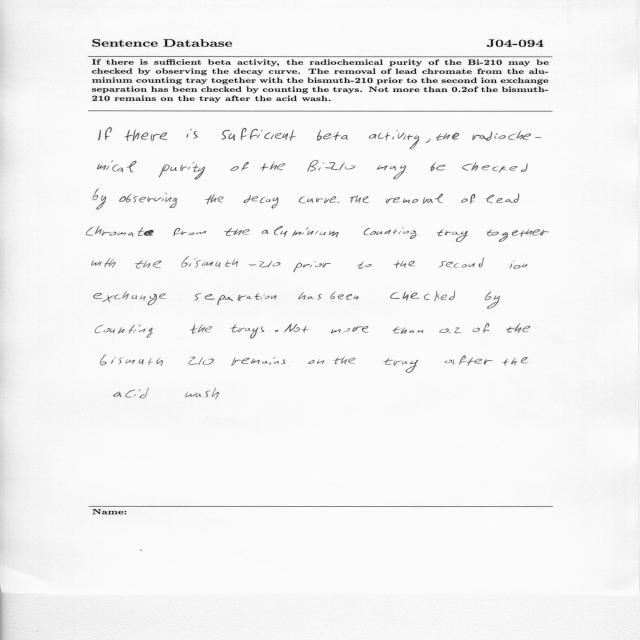word: (100, 355, 214, 366), (181, 256, 281, 268), (94, 292, 166, 306), (194, 293, 277, 305), (221, 128, 296, 141), (369, 130, 420, 149), (119, 193, 177, 208), (262, 226, 339, 237), (159, 162, 205, 180), (96, 324, 154, 338), (487, 229, 549, 242), (472, 131, 542, 141), (86, 226, 154, 236), (462, 163, 528, 173), (390, 291, 456, 301), (364, 227, 416, 239), (307, 160, 355, 172), (386, 194, 443, 204), (445, 355, 493, 366), (384, 358, 419, 373), (125, 130, 168, 142), (230, 324, 264, 339), (232, 357, 286, 366), (98, 161, 137, 173), (244, 195, 279, 208), (439, 258, 484, 268), (293, 261, 331, 272), (377, 165, 406, 179), (437, 229, 468, 242), (114, 388, 149, 398), (317, 130, 348, 141), (486, 194, 520, 204), (331, 326, 368, 334), (94, 189, 107, 210), (485, 291, 500, 309), (174, 228, 207, 236), (299, 197, 336, 204), (506, 323, 531, 333), (92, 258, 116, 268), (330, 292, 359, 300), (189, 324, 212, 334), (260, 162, 285, 171), (393, 327, 424, 334), (502, 357, 529, 365), (224, 228, 250, 236), (135, 260, 161, 268), (284, 324, 309, 332), (298, 292, 322, 300), (205, 194, 224, 204), (436, 133, 459, 141), (185, 391, 211, 398), (334, 357, 356, 365), (230, 162, 249, 171), (473, 323, 490, 333), (510, 260, 528, 269), (349, 195, 369, 203), (99, 128, 112, 140), (394, 261, 416, 268), (461, 194, 475, 204), (439, 328, 462, 334), (430, 162, 445, 171), (186, 129, 198, 139), (357, 262, 372, 269), (308, 359, 324, 364), (212, 388, 219, 399), (426, 139, 431, 143), (275, 330, 279, 332), (337, 202, 339, 203)
